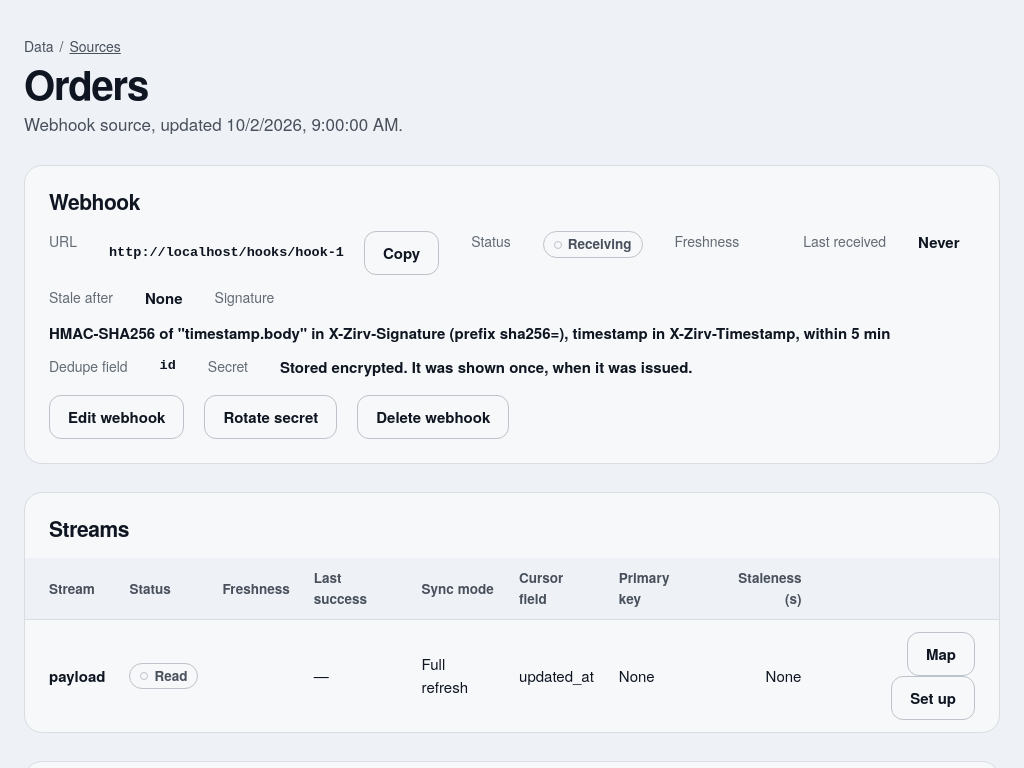
Test: a webhook source › keeps the secret when the rotation is cancelled
Click the button "Rotate secret". click: (271,417)
box: top-left (204, 395), bottom-right (337, 439)
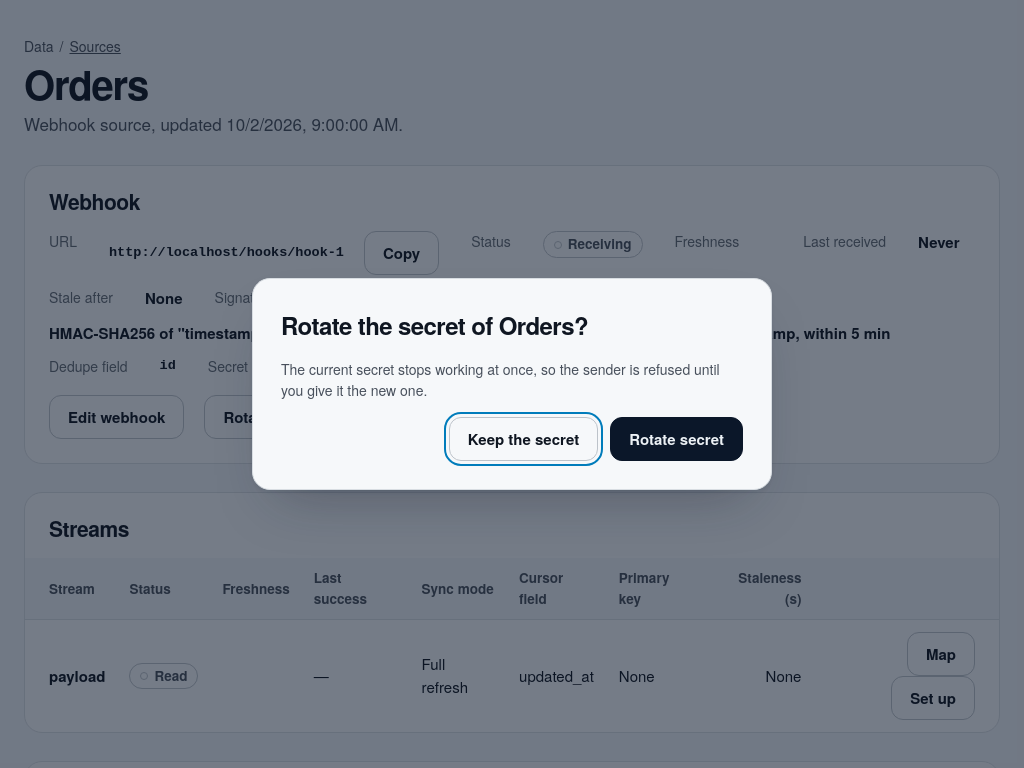
Click the button "Keep the secret". click: (523,439)
box: top-left (449, 417), bottom-right (598, 461)
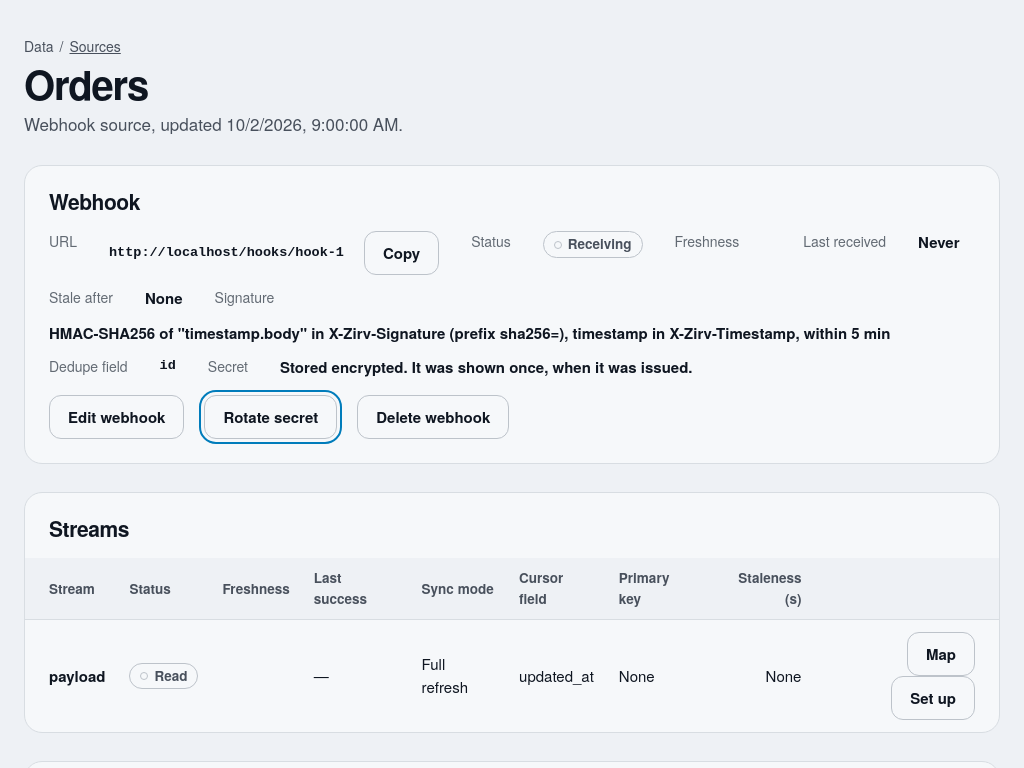
expect the dialog is gone: met
